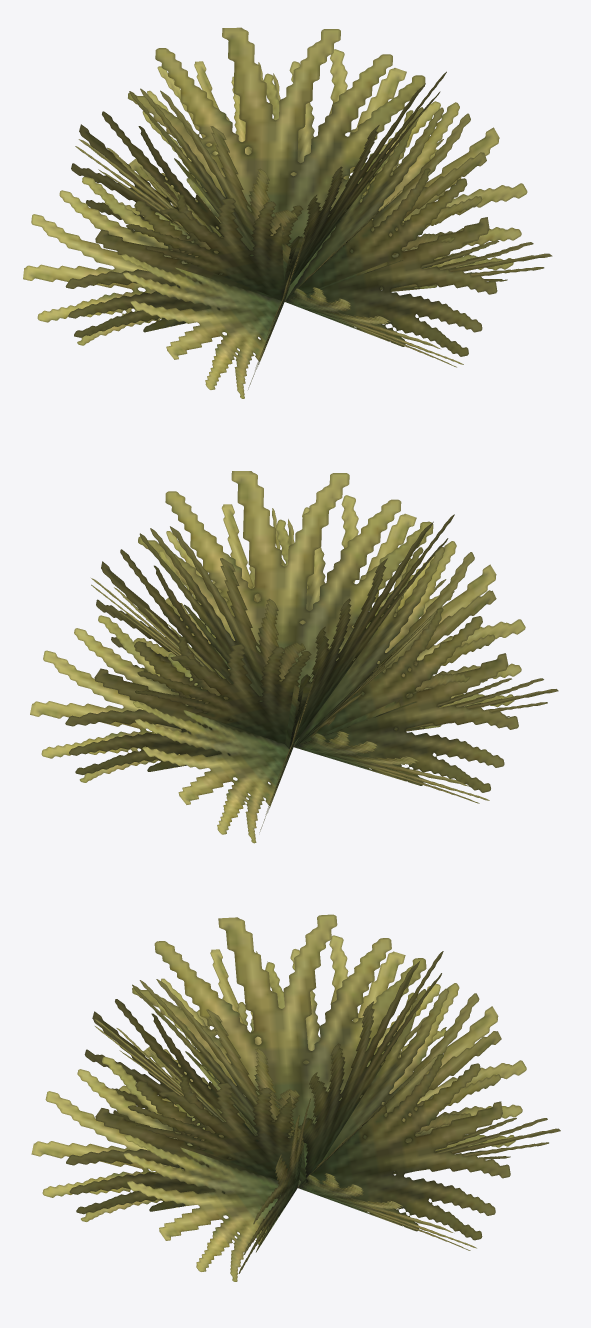
The model's file is C1SNGRSB.obj.
3 views of the same model, one above another, from view 1: azimuth 30°, elevation 25°; view 2: azimuth 150°, elevation 25°; view 3: azimuth 270°, elevation 25° (orthographic).
Visible parts, largest first — view 1: Node 0; view 2: Node 0; view 3: Node 0.
Boxes of the visible parts, x1,y1,x2,y2 form: Node 0: (23, 27, 552, 398); Node 0: (30, 471, 558, 843); Node 0: (31, 914, 560, 1281).
Bounding box in the file's own units: 1.3 × 0.57 × 1.25.
1 material, 1 textured.
